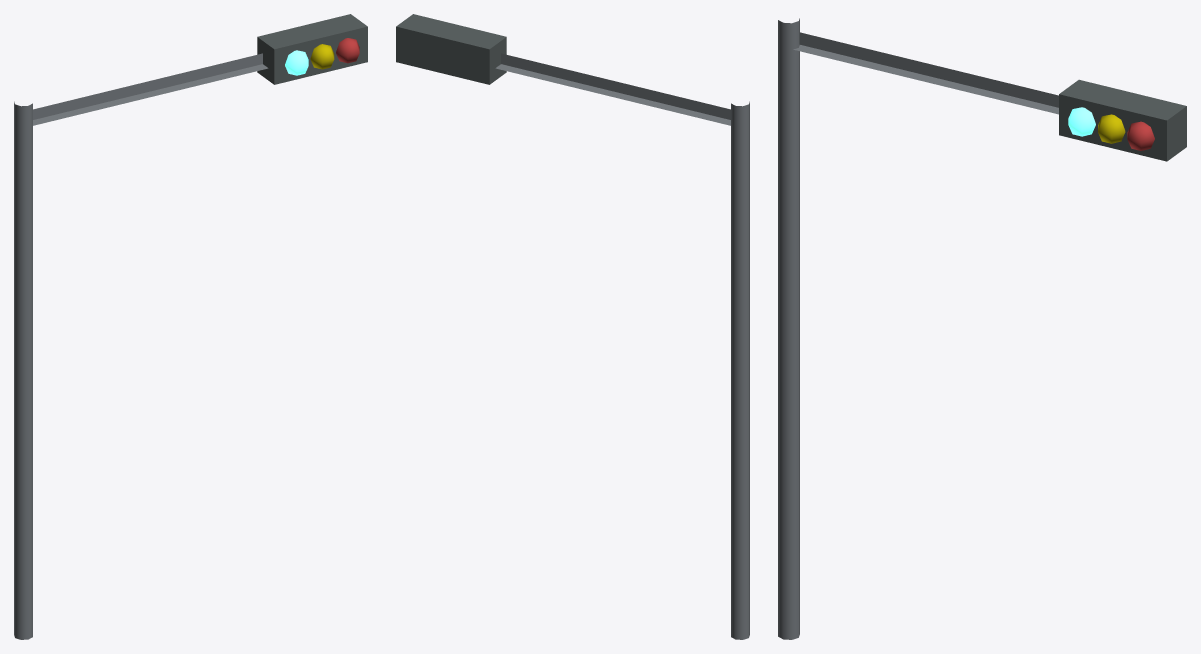
The model's file is traffic_light.glb.
3 views of the same model, side by side, from view 1: azimuth 30°, elevation 25°; view 2: azimuth 150°, elevation 25°; view 3: azimuth 330°, elevation 25° (orthographic). The views are drawn at different scales.
Parts seen in each view (by area): view 1: traffic_light; view 2: traffic_light; view 3: traffic_light.
Part boxes in pixels (x1,y1,x2,y2): traffic_light: (14, 14, 367, 639); traffic_light: (396, 14, 749, 639); traffic_light: (778, 18, 1186, 639).
Bounding box in the file's own units: 4.05 × 6 × 0.4962.
